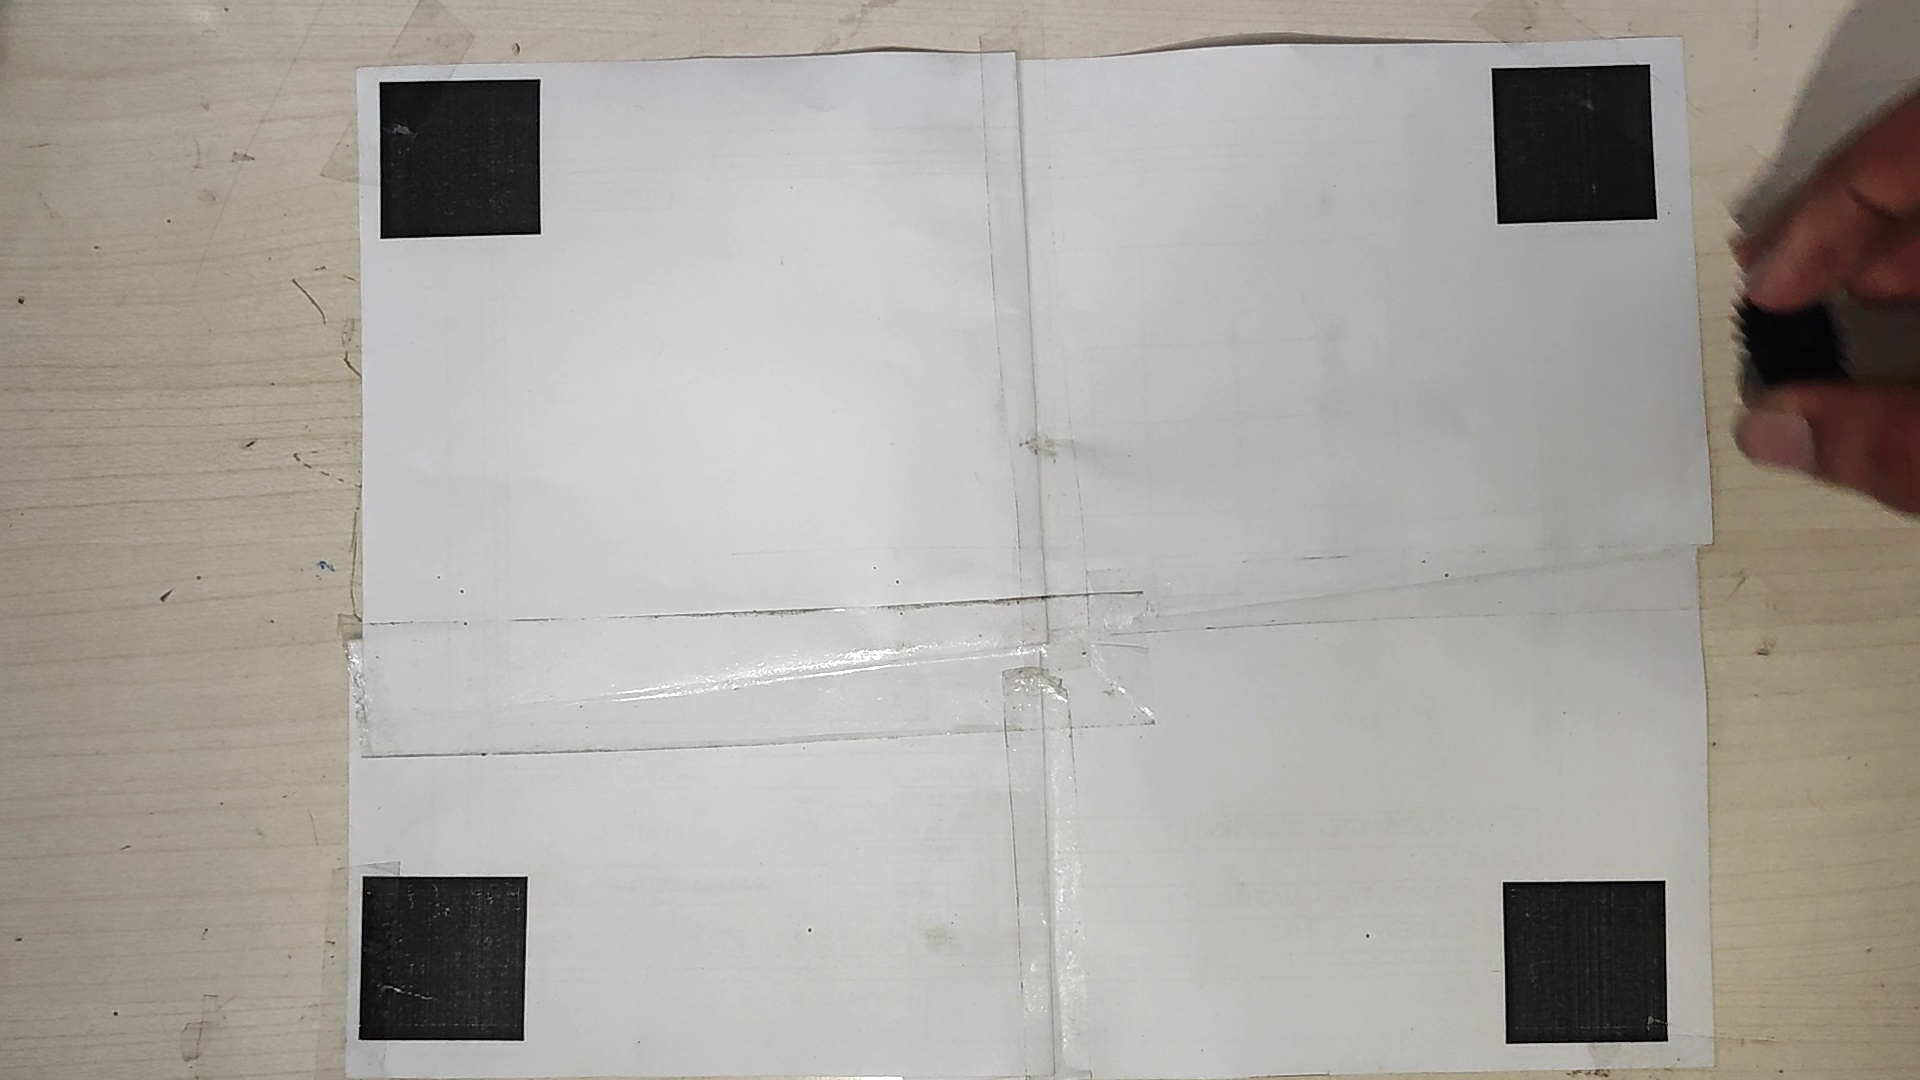Gear: (1733, 297, 1858, 393)
